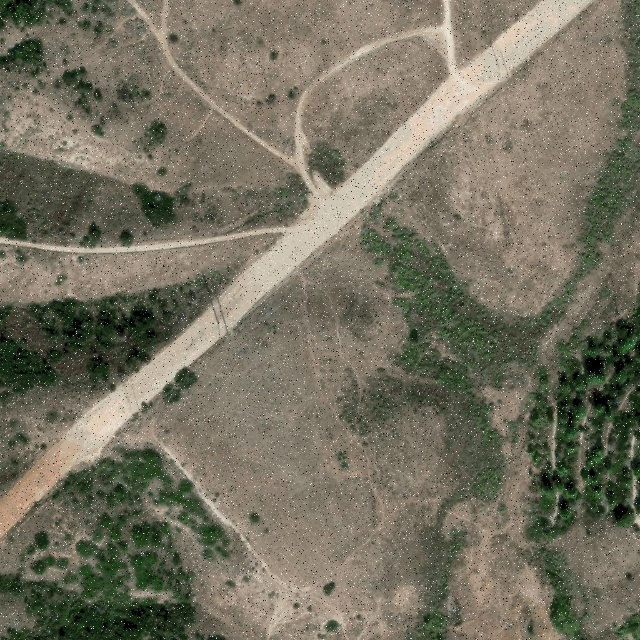vegetation: (336, 0, 640, 505), (0, 451, 232, 640), (524, 306, 640, 543), (0, 278, 204, 405), (412, 527, 468, 640), (536, 549, 587, 640), (55, 68, 106, 140), (130, 184, 177, 226), (0, 38, 45, 79), (0, 198, 25, 238)
